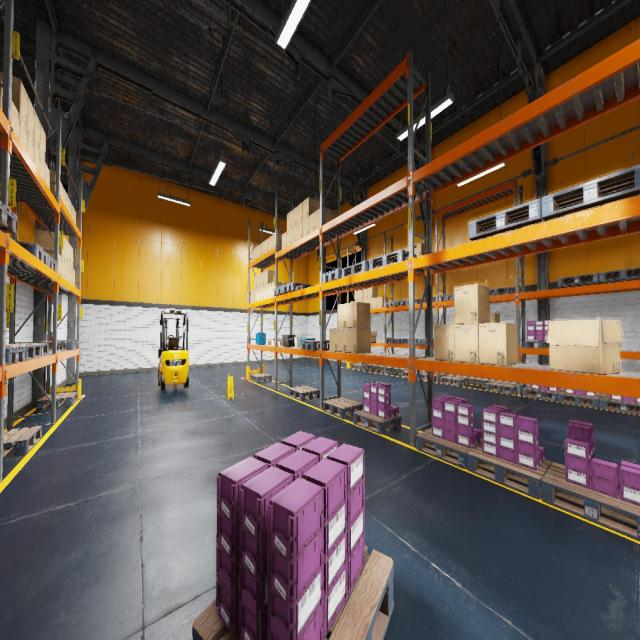box: (546, 320, 623, 374), (479, 322, 517, 366), (0, 71, 28, 129), (454, 283, 490, 324), (454, 324, 479, 363), (34, 230, 65, 260), (434, 324, 455, 361), (347, 327, 370, 353), (347, 302, 370, 327), (316, 207, 335, 229), (302, 197, 320, 220), (11, 100, 20, 138), (20, 116, 28, 151), (28, 97, 34, 141), (34, 111, 40, 152), (40, 123, 46, 162), (338, 303, 347, 328), (27, 130, 34, 162), (272, 281, 286, 297), (338, 328, 347, 352), (264, 270, 278, 285), (330, 328, 338, 351), (34, 142, 40, 172), (414, 242, 426, 256), (41, 247, 54, 259), (50, 170, 56, 195), (272, 233, 282, 248), (40, 153, 45, 181), (309, 211, 315, 233), (377, 296, 388, 308), (45, 163, 50, 188), (368, 287, 378, 298), (291, 225, 297, 243), (297, 202, 302, 223), (297, 220, 302, 240), (303, 216, 308, 236), (0, 80, 3, 110), (490, 313, 500, 322), (58, 254, 62, 276), (61, 257, 65, 279), (292, 206, 296, 228), (64, 260, 68, 281), (287, 211, 291, 231), (62, 187, 66, 206), (65, 238, 68, 263), (68, 242, 71, 266), (287, 228, 291, 246), (282, 232, 286, 249), (268, 235, 272, 251), (264, 238, 268, 253), (60, 181, 63, 200), (70, 266, 73, 285), (260, 286, 264, 300), (260, 272, 264, 286), (66, 192, 69, 210), (371, 332, 376, 342), (372, 298, 377, 308), (71, 204, 74, 220), (261, 240, 264, 256), (264, 284, 267, 300), (268, 283, 271, 298), (71, 246, 73, 268), (368, 298, 372, 309), (358, 289, 362, 300), (254, 288, 257, 302), (254, 274, 257, 288), (363, 289, 367, 299), (255, 246, 258, 259), (251, 289, 254, 302), (68, 264, 70, 282), (73, 268, 75, 286), (69, 199, 71, 215), (272, 341, 280, 345), (273, 337, 281, 341), (74, 209, 76, 224), (355, 290, 358, 300), (258, 287, 260, 301), (258, 274, 260, 288), (258, 244, 260, 257), (252, 248, 254, 261), (402, 247, 408, 251), (278, 342, 282, 346), (266, 341, 271, 344), (452, 316, 454, 323), (363, 299, 367, 302), (271, 341, 272, 344), (408, 247, 408, 251)
forklift: (158, 310, 189, 390)
pallets: (192, 546, 394, 640), (541, 462, 640, 541), (541, 164, 640, 221), (467, 443, 552, 499), (468, 198, 546, 240), (416, 428, 482, 469), (3, 425, 42, 457), (354, 410, 402, 434), (369, 250, 416, 270), (15, 240, 47, 266), (323, 397, 362, 418), (600, 396, 640, 415), (558, 391, 601, 408), (36, 392, 78, 409), (599, 268, 640, 284), (558, 273, 600, 288), (522, 386, 561, 401), (6, 344, 41, 360), (6, 343, 48, 356), (0, 201, 17, 233), (342, 261, 369, 277), (289, 386, 319, 400), (322, 268, 350, 282), (6, 346, 26, 365), (486, 382, 517, 394), (283, 282, 314, 293), (44, 340, 78, 350), (440, 376, 468, 386), (300, 341, 330, 350), (418, 372, 442, 382), (490, 287, 514, 296), (401, 370, 424, 379), (250, 373, 272, 382), (524, 341, 549, 348), (396, 299, 418, 306), (48, 254, 56, 272), (401, 338, 424, 344), (273, 286, 285, 296), (439, 293, 454, 301), (351, 363, 368, 370), (417, 338, 434, 344), (384, 301, 400, 307), (385, 338, 401, 343)
